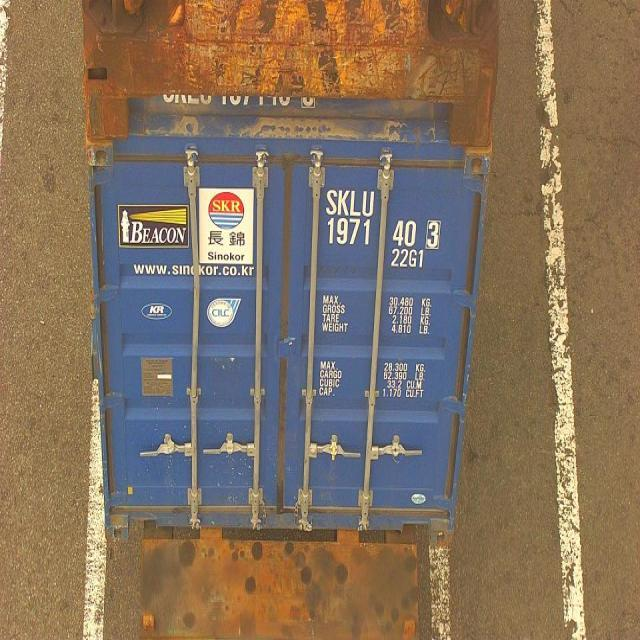ISO: (390, 250, 424, 270)
container_number: (328, 192, 440, 244)
